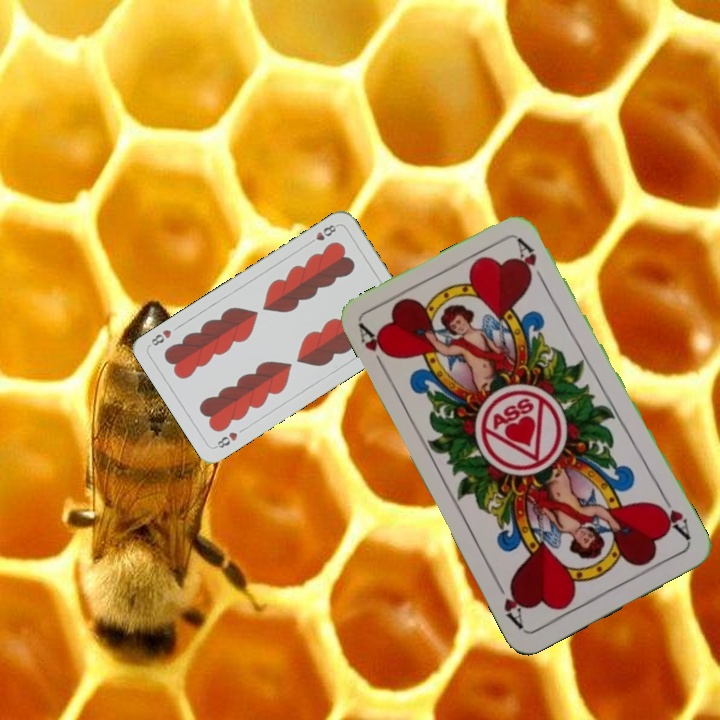H8: (304, 220, 341, 247), (211, 428, 240, 451)
HA: (354, 320, 395, 376), (652, 490, 694, 543)
